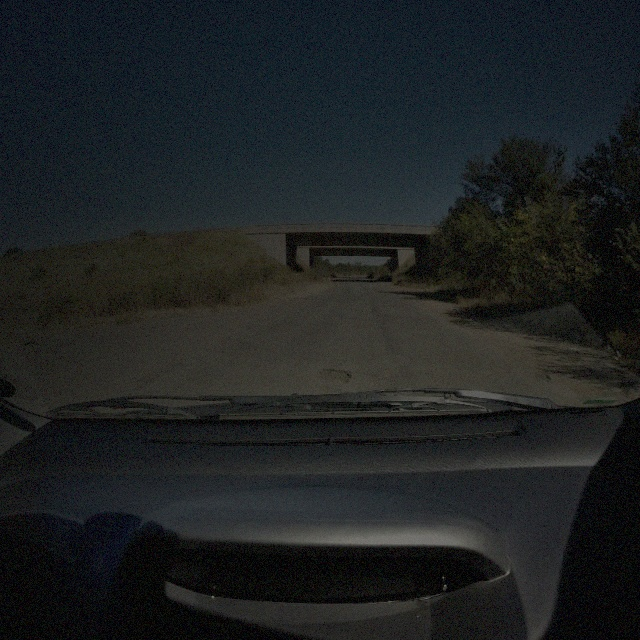pothole: (318, 365, 351, 382)
